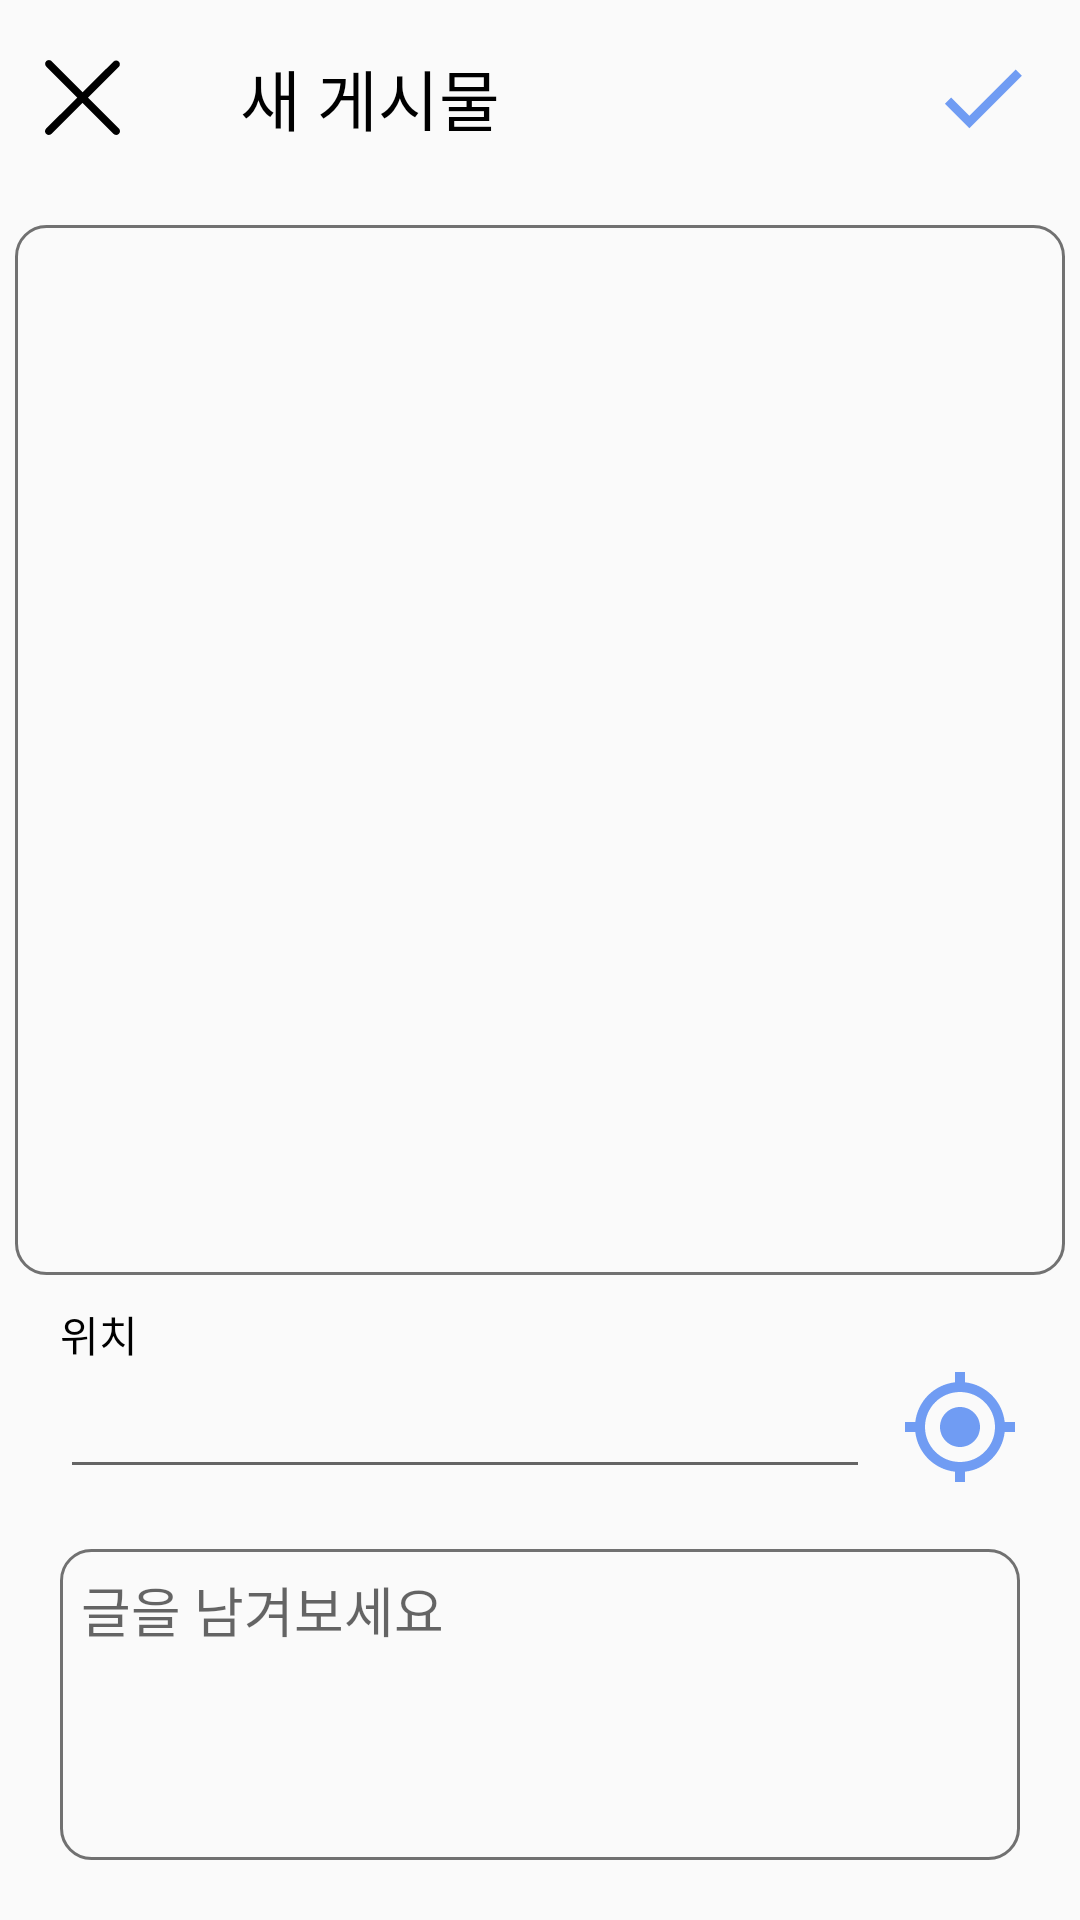

Named icons in this screenshot (1080x1920) and their bounding boxes, BBox(x1, y1, x2, y2):
cancel: BBox(45, 60, 120, 135)
check: BBox(945, 69, 1022, 128)
location: BBox(905, 1372, 1015, 1482)
